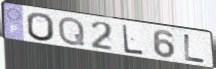2: (90, 21, 115, 52)
6: (151, 29, 176, 59)
L: (121, 23, 145, 56), (183, 33, 207, 64)
O: (26, 11, 56, 43)
Q: (57, 16, 87, 47)
